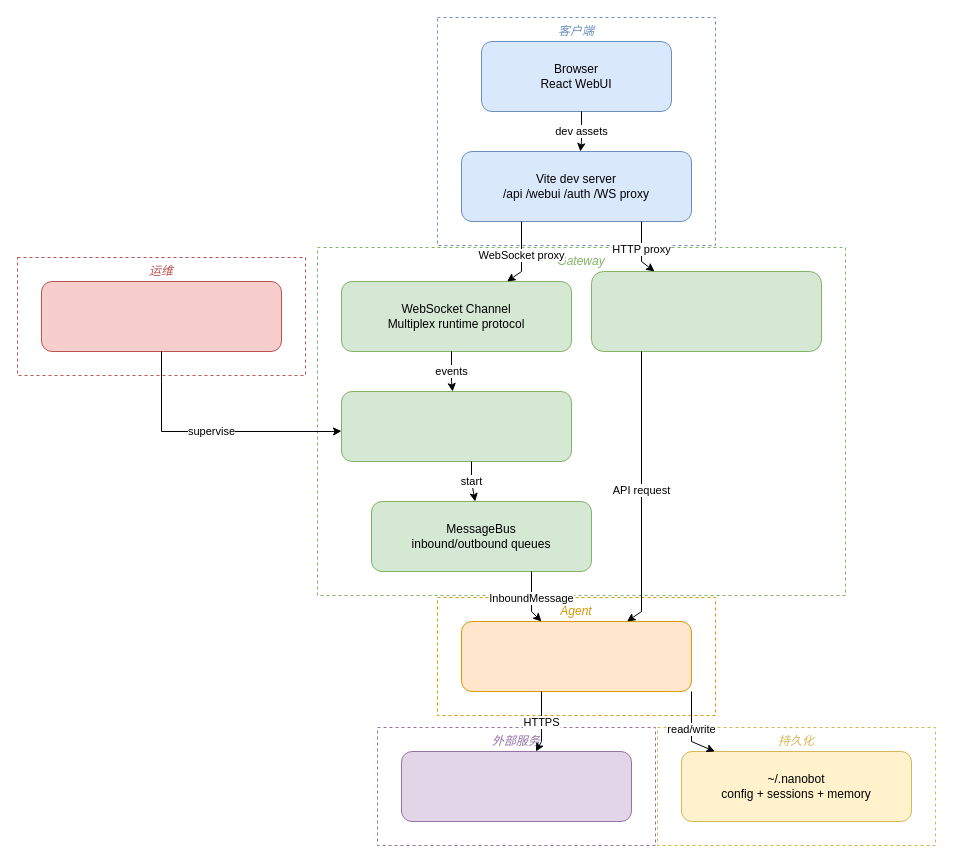
This 953x863 diagram has some shape labels left out. Here are the shapes that lost their labels. From the top down, the centre of each, then its label:
point 161,316: 生产部署 反向代理 / launchd / systemd
point 706,311: FastAPI API /v1/chat/completions /v1/models
point 456,426: nanobot gateway async task supervisor :8765
point 576,656: AgentLoop + Runner 模型与工具循环
point 516,786: LLM endpoint OPENAI_BASE_URL / API key
